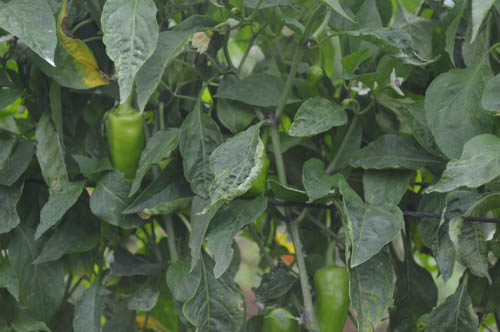ChiliPepper: (103, 110, 144, 178), (314, 268, 353, 330)
